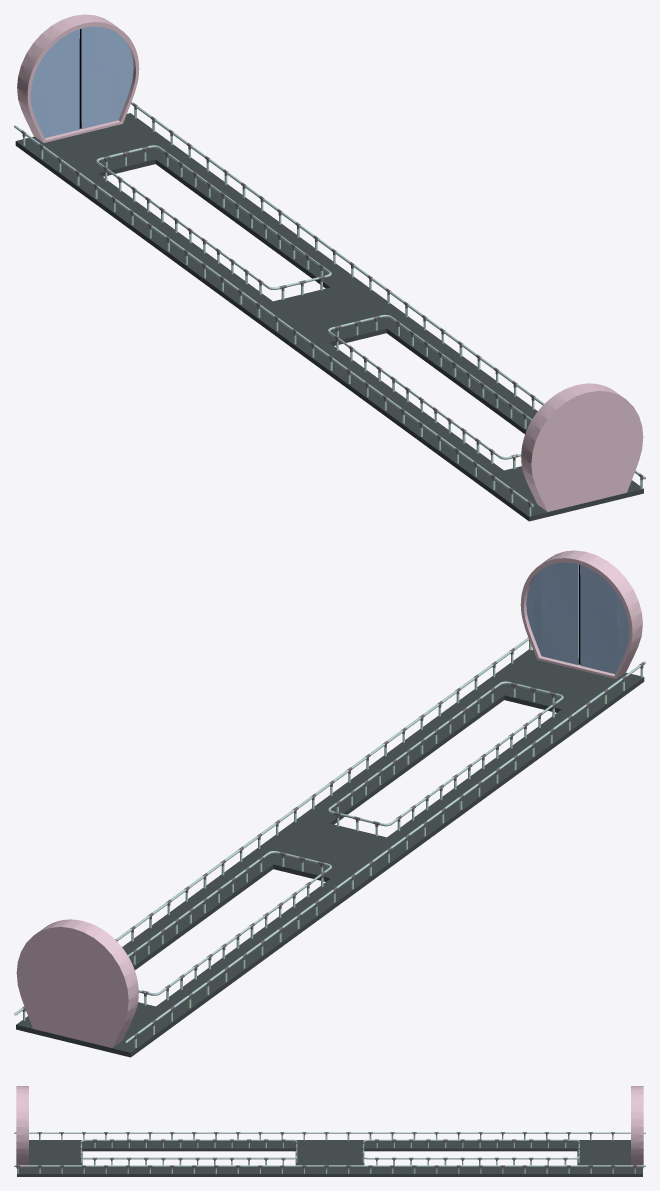
The model's file is Stage version 3.fbx.
3 views of the same model, one above another, from view 1: azimuth 30°, elevation 25°; view 2: azimuth 150°, elevation 25°; view 3: azimuth 270°, elevation 25° (orthographic). The views are drawn at different scales.
Visible parts, largest first — view 1: Cube.002, Cylinder, Plane.001, Cube.001, Cube.008; view 2: Cube.002, Cylinder, Plane.001, Cube.001, Cube.008; view 3: Cube.002, Plane.001, Cylinder, Cube.008, Cube.001.
Boxes of the visible parts, x1,y1,x2,y2 form: Cube.002: [15, 113, 643, 521]; Cylinder: [17, 14, 643, 511]; Plane.001: [14, 101, 645, 506]; Cube.001: [23, 109, 642, 516]; Cube.008: [21, 103, 643, 507]; Cube.002: [16, 649, 644, 1057]; Cylinder: [16, 550, 642, 1047]; Plane.001: [14, 638, 645, 1042]; Cube.001: [23, 641, 642, 1047]; Cube.008: [22, 637, 644, 1039]; Cube.002: [17, 1140, 642, 1176]; Plane.001: [14, 1132, 645, 1166]; Cylinder: [16, 1086, 643, 1168]; Cube.008: [15, 1132, 636, 1168]; Cube.001: [17, 1135, 635, 1173].
Bounding box in the file's own units: 1281 × 1229 × 10017.
